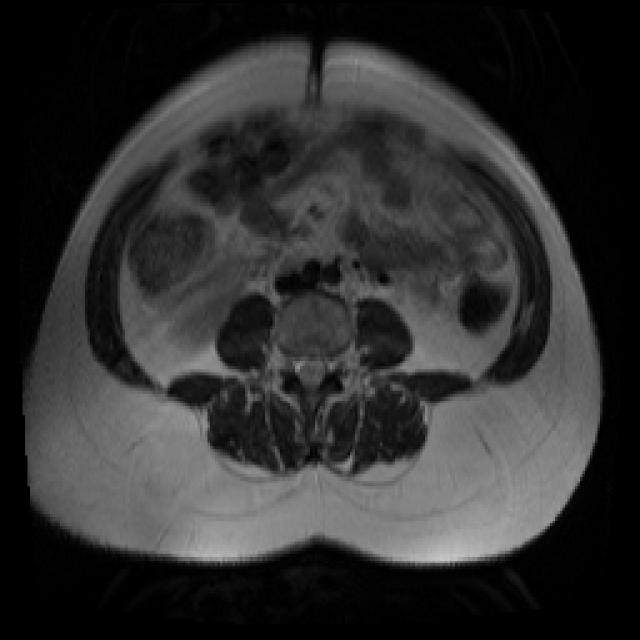sag: (169, 256, 249, 351)
sol: (394, 269, 439, 321)
